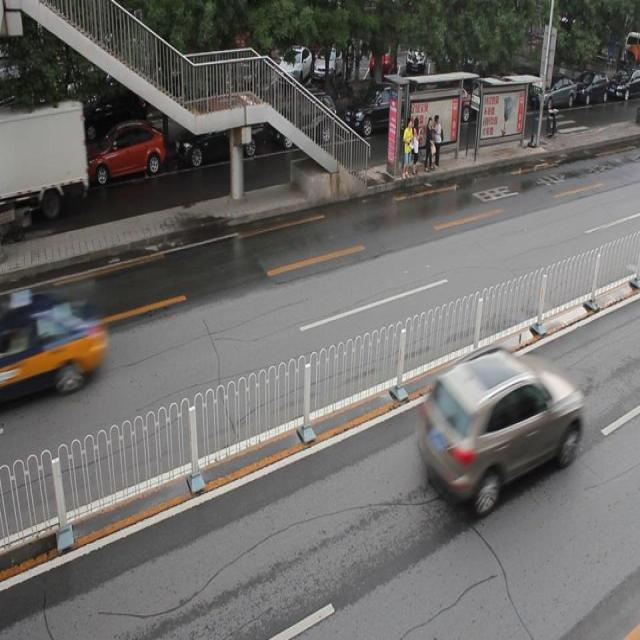bus: (1, 100, 89, 226)
car: (419, 344, 581, 508), (0, 298, 104, 412), (83, 122, 167, 186), (175, 106, 262, 165), (344, 80, 412, 139), (1, 137, 66, 197), (271, 95, 335, 150)
